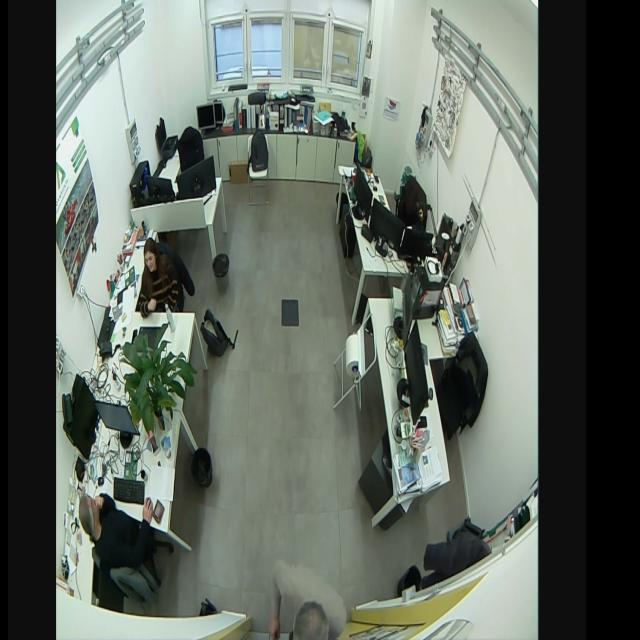Persona: (76, 482, 154, 578), (267, 550, 346, 640), (136, 236, 180, 322)
